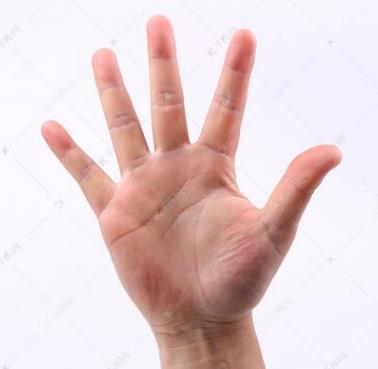down: (38, 15, 340, 322)
